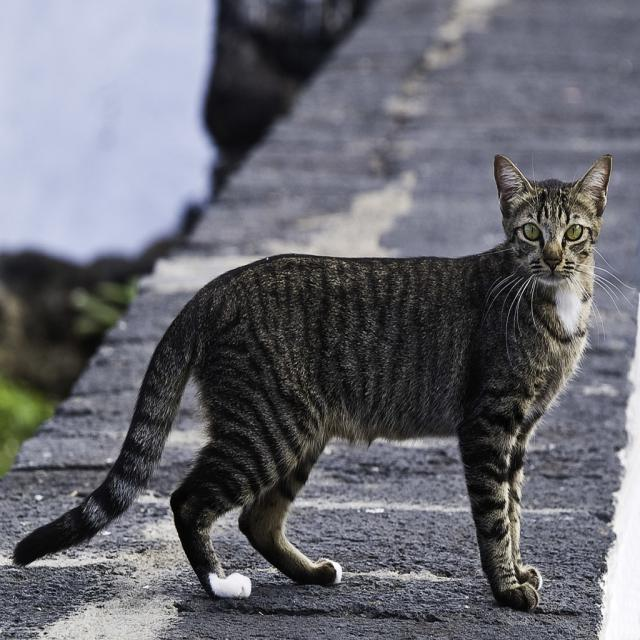Cat: (11, 152, 636, 610)
